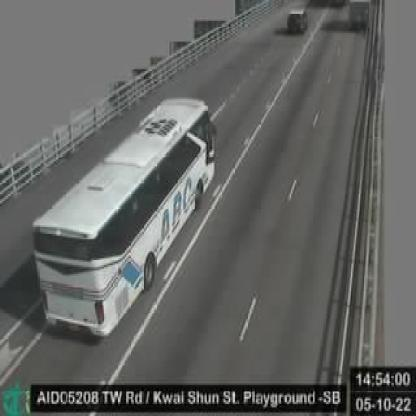Bus: (31, 99, 217, 338)
Car: (286, 10, 307, 33)
